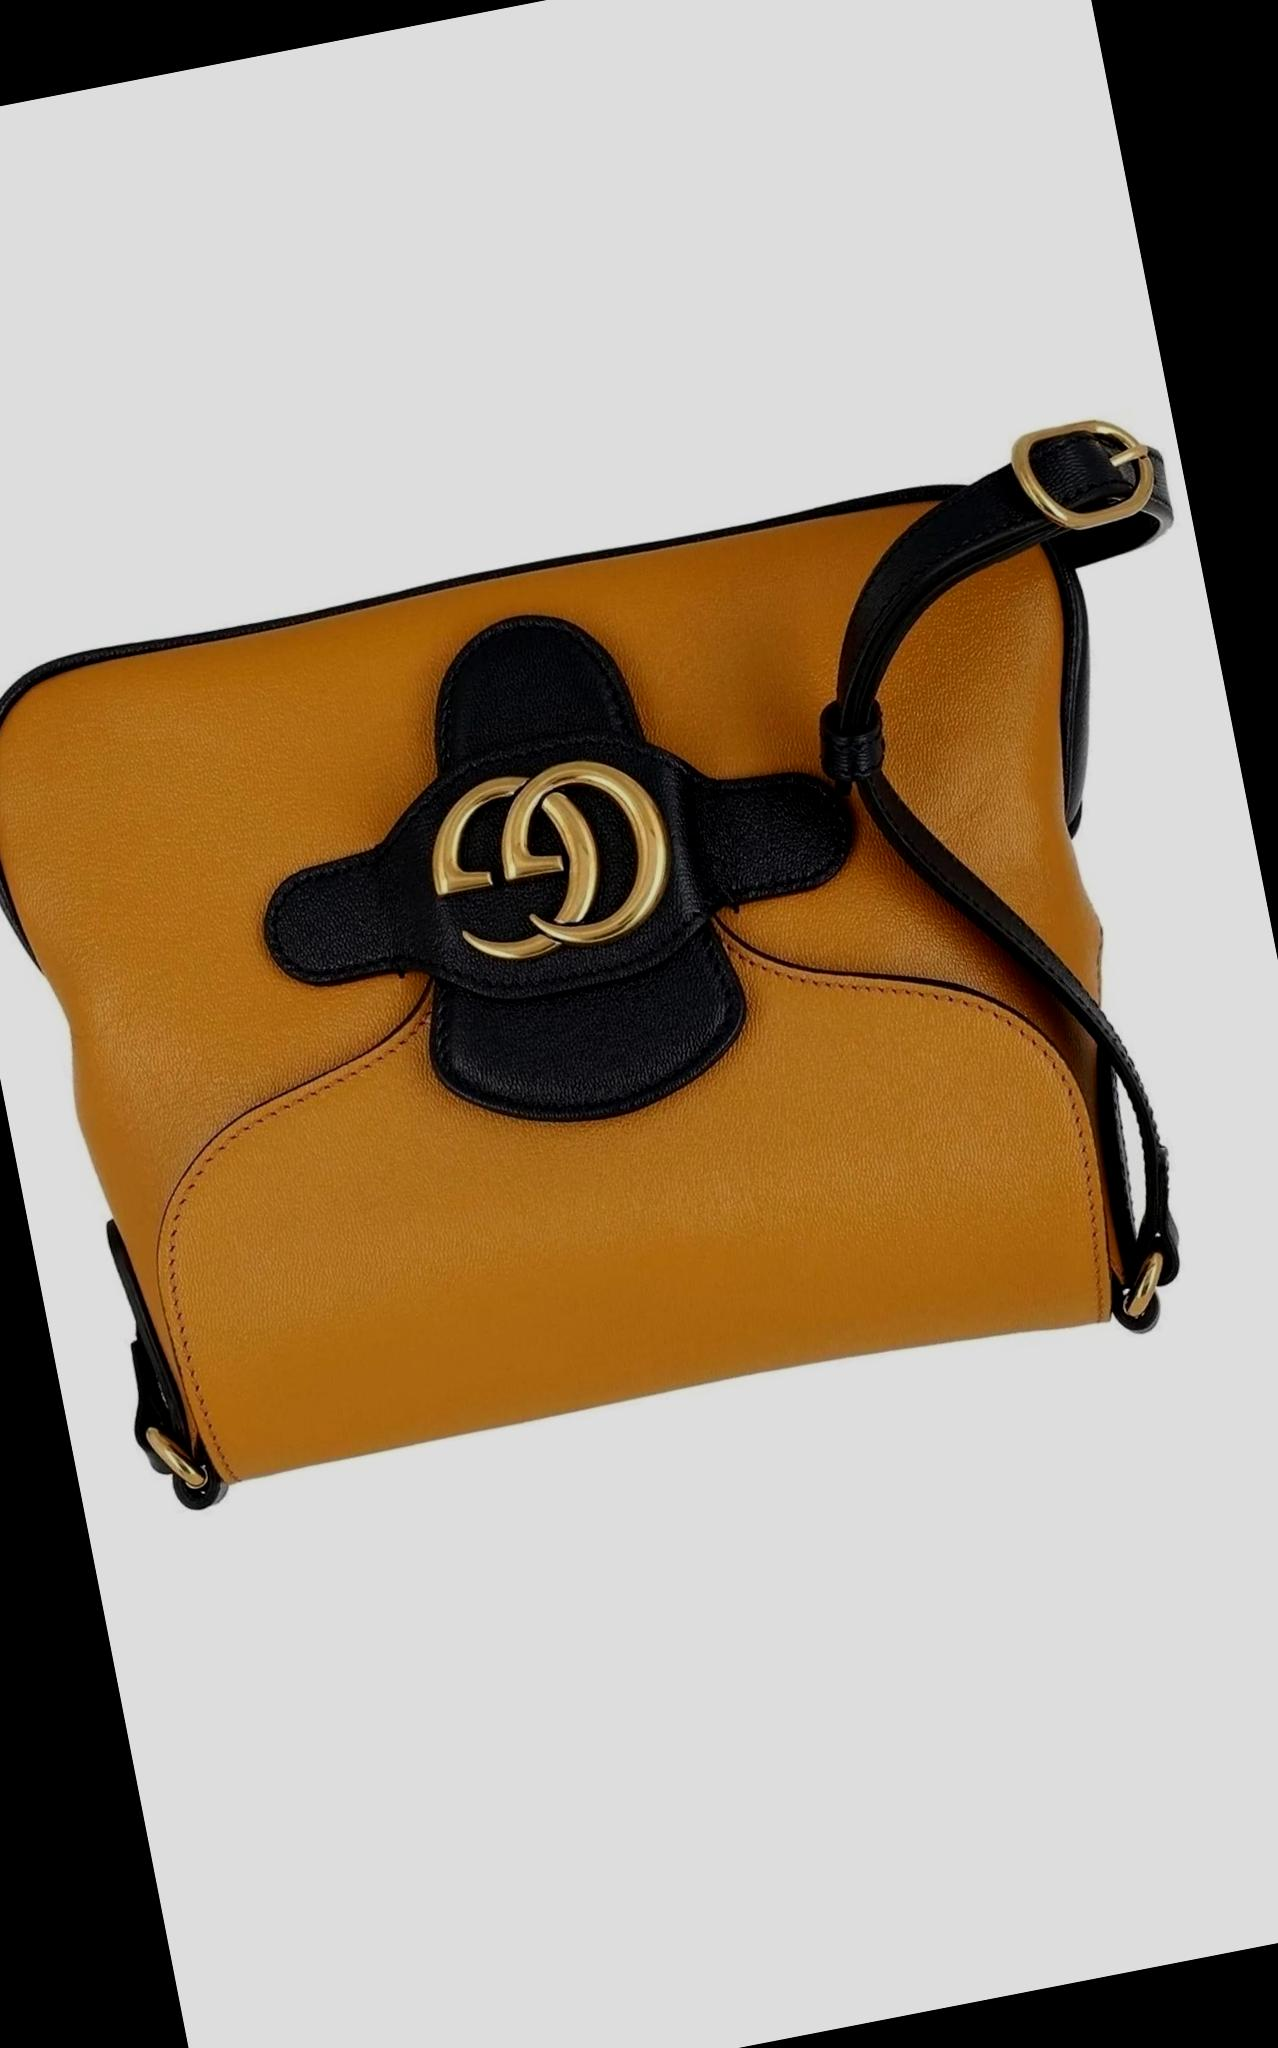GUCCI: (415, 745, 685, 973)
